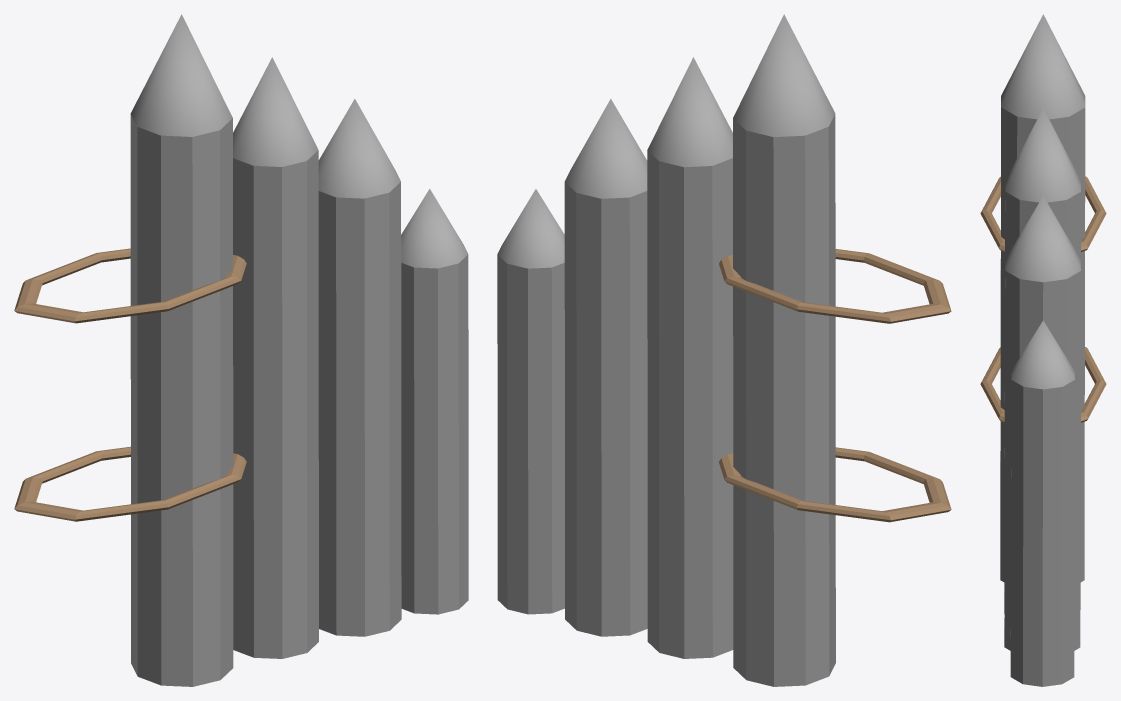
The model's file is Mama_R Gate.fbx.
The picture shows the model from 3 angles, left to right: view 1: azimuth 30°, elevation 25°; view 2: azimuth 150°, elevation 25°; view 3: azimuth 270°, elevation 25°; orthographic projection. The views are drawn at different scales.
Visible parts, largest first — view 1: polySurface2, pTorus2, pTorus3; view 2: polySurface2, pTorus3, pTorus2; view 3: polySurface2, pTorus3, pTorus2.
Part boxes in pixels (x1,y1,x2,y2): polySurface2: (130, 14, 468, 686); pTorus2: (14, 248, 246, 323); pTorus3: (14, 446, 246, 521); polySurface2: (497, 14, 835, 686); pTorus3: (719, 447, 951, 522); pTorus2: (719, 249, 951, 323); polySurface2: (1000, 14, 1085, 686); pTorus3: (980, 347, 1106, 422); pTorus2: (980, 176, 1106, 251).
Size of the model in its own units: 340 by 472 by 96.18.
